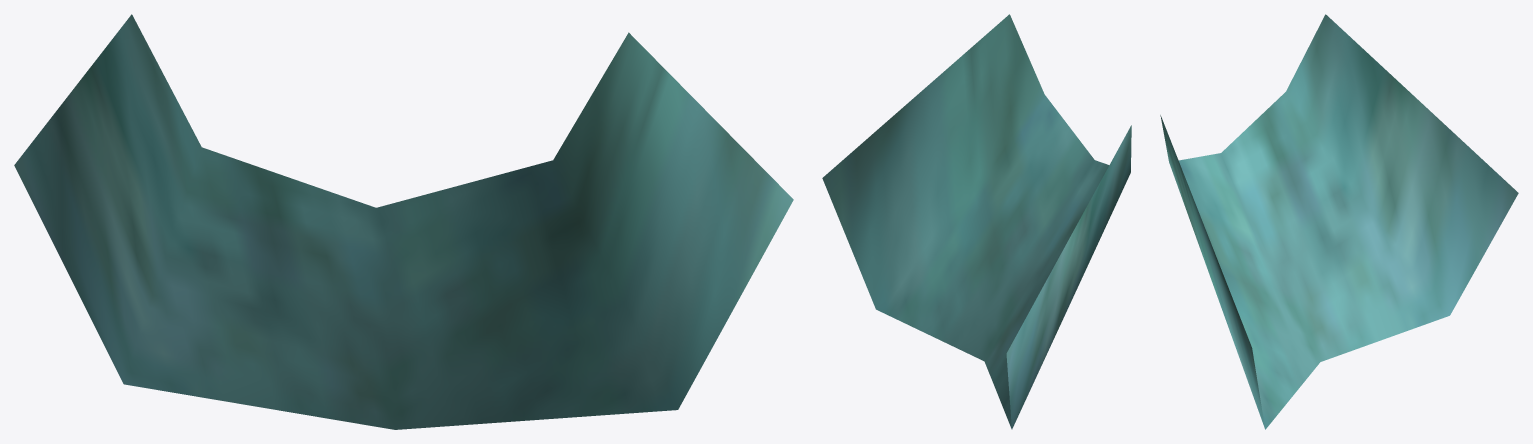
Rendered from EKH_CAVERNS_PS_CA_OBJECT40.fbx.
The picture shows the model from 3 angles, left to right: view 1: azimuth 30°, elevation 25°; view 2: azimuth 150°, elevation 25°; view 3: azimuth 270°, elevation 25°; orthographic projection. The views are drawn at different scales.
Parts seen in each view (by area): view 1: EKH_CAVERNS_PS_CA_OBJECT40; view 2: EKH_CAVERNS_PS_CA_OBJECT40; view 3: EKH_CAVERNS_PS_CA_OBJECT40.
Part boxes in pixels (x1=…): EKH_CAVERNS_PS_CA_OBJECT40: x1=14, y1=14, x2=793, y2=429; EKH_CAVERNS_PS_CA_OBJECT40: x1=822, y1=14, x2=1131, y2=429; EKH_CAVERNS_PS_CA_OBJECT40: x1=1160, y1=14, x2=1518, y2=429.
Bounding box in the file's own units: 19721 × 15068 × 17703.
Materials: 1 (1 with a texture image).
